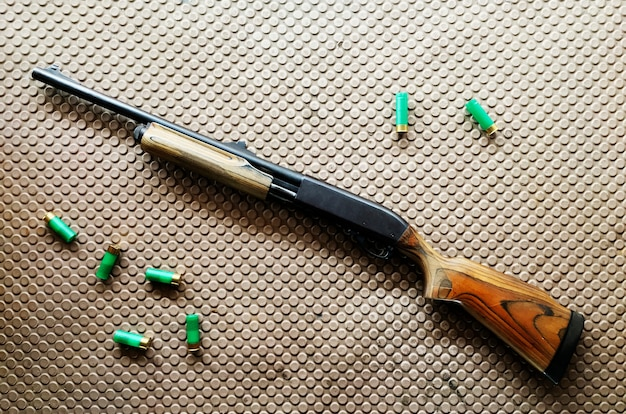gun: (31, 66, 586, 387)
